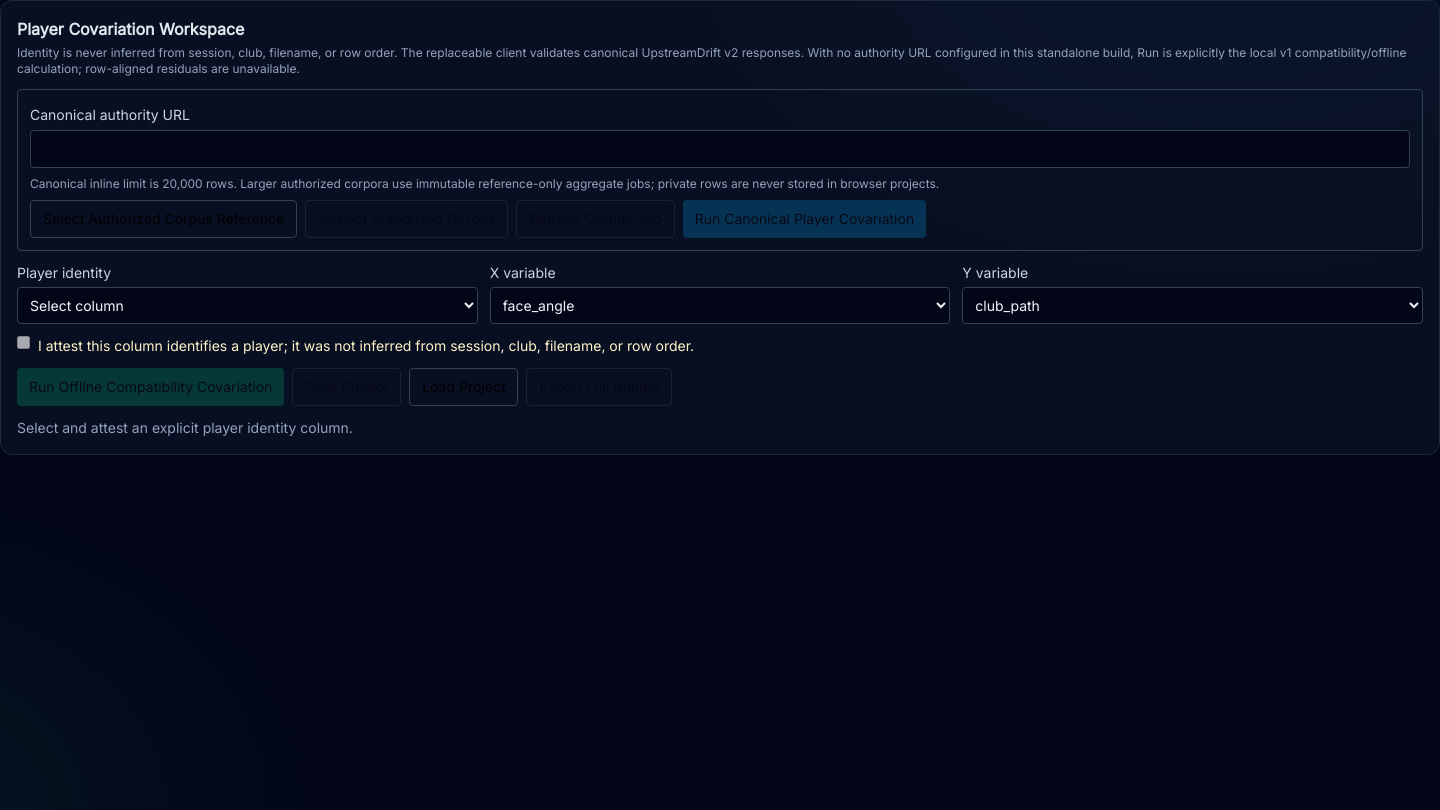
it: LaunchMonitorPlayerWorkspace › fails closed until a player identity column is explicitly attested
Expected: the button "Run Offline Compatibility Covariation" is disabled, left=17, top=368, right=284, bottom=406
Select "player_id" in the dropdown named "Player identity column" at (247,306), box left=17, top=287, right=478, bottom=324
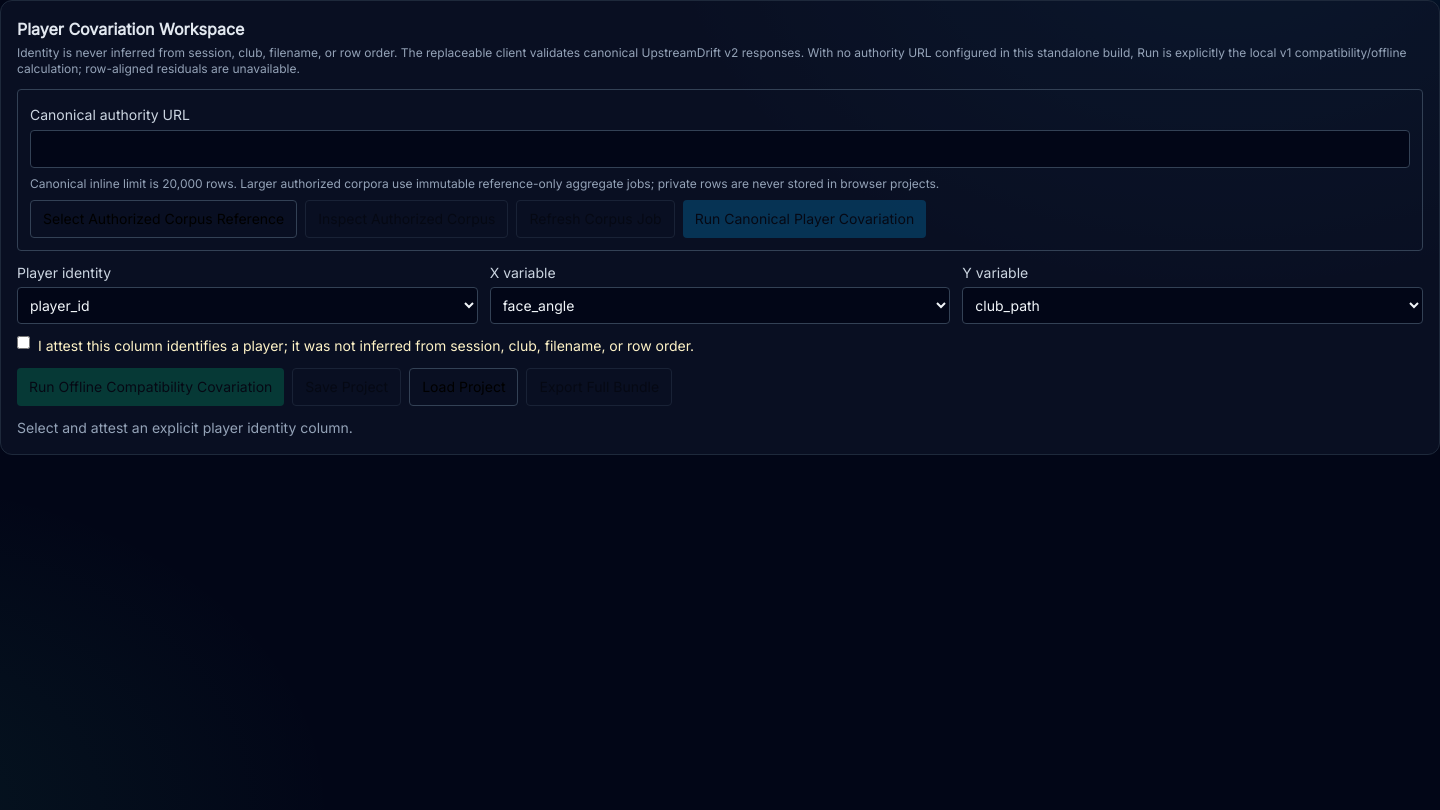
Click the checkbox labelled "I attest" at (24,342), box left=17, top=336, right=30, bottom=349
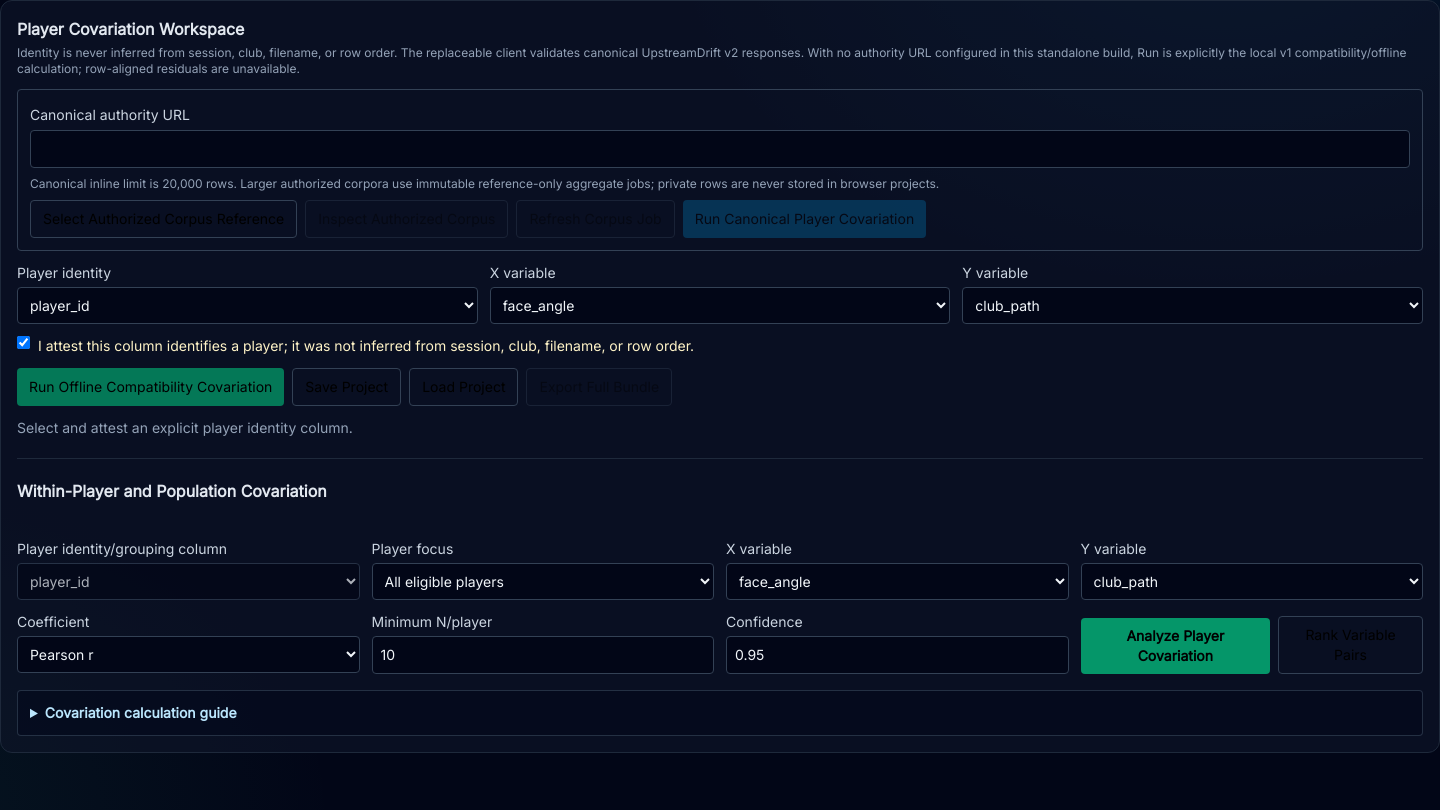
Expected: the button "Run Offline Compatibility Covariation" is enabled
Click the button "Run Offline Compatibility Covariation" at (151,387), box left=17, top=368, right=284, bottom=406
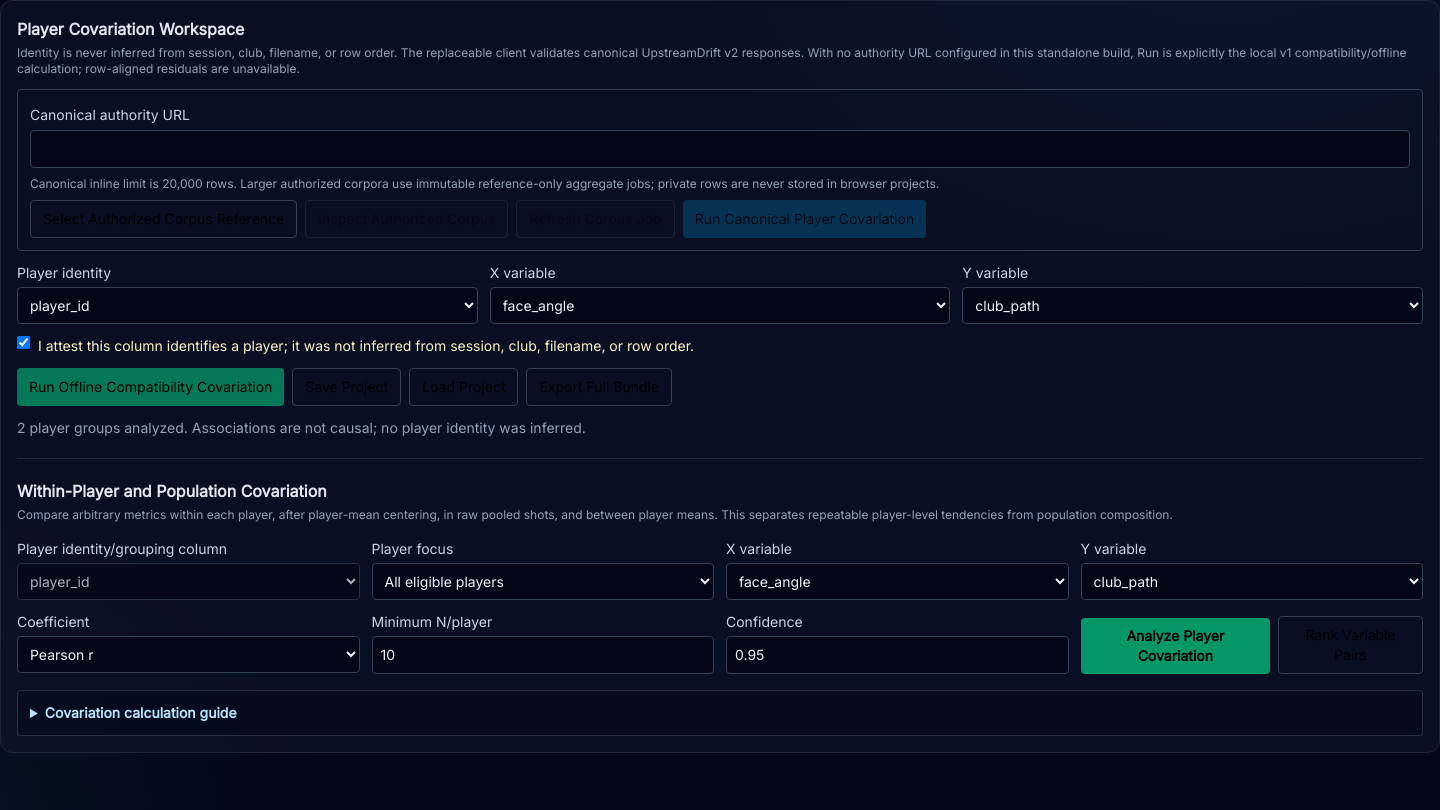
Expected: the text "2 player groups analyzed" is shown, left=17, top=419, right=586, bottom=436
